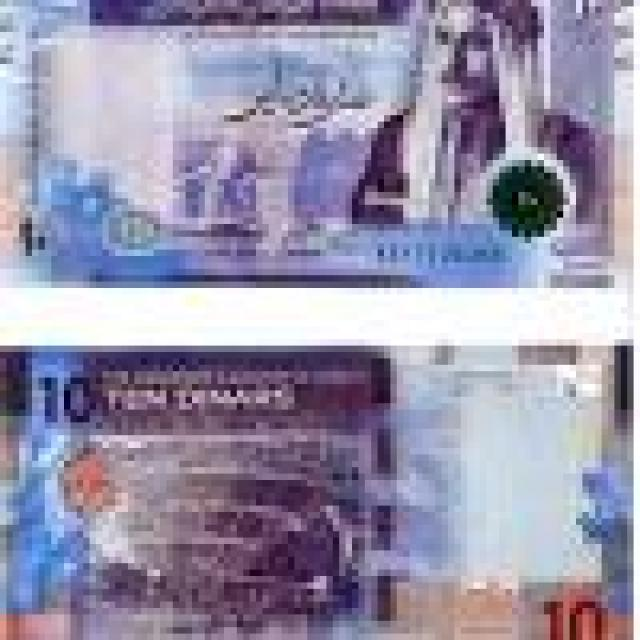10-dinar: (0, 342, 634, 640), (0, 0, 640, 290)
